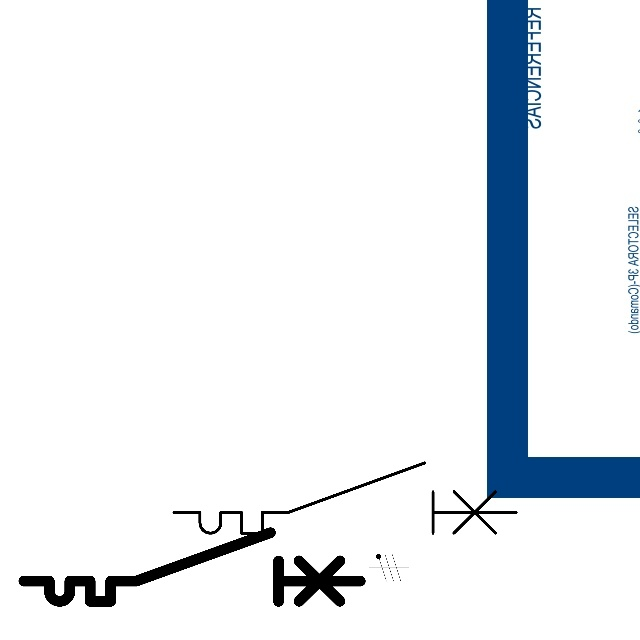interruptor_termomagnetico: (165, 454, 525, 542), (15, 524, 369, 610)
